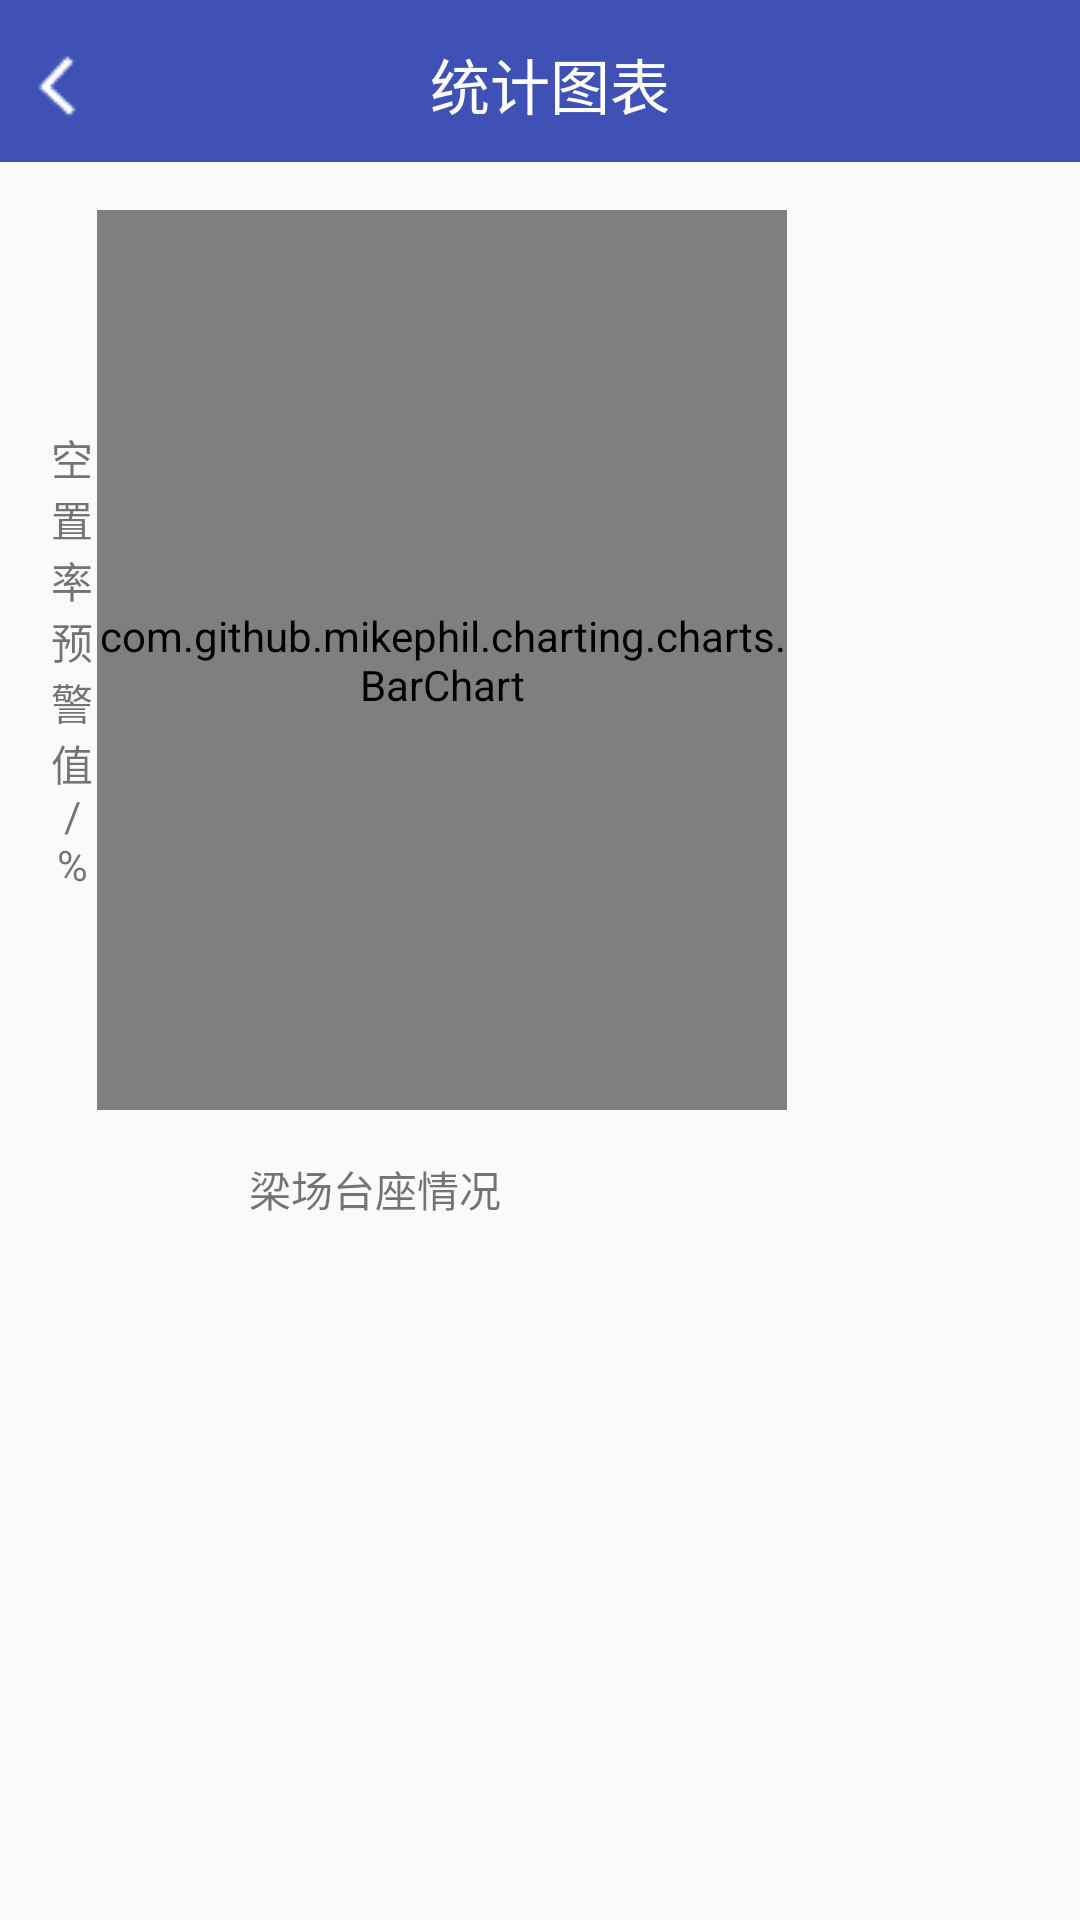

Icon click points for this 1080x1920 phone screenshot, format point (x, y):
back: point (57, 85)
